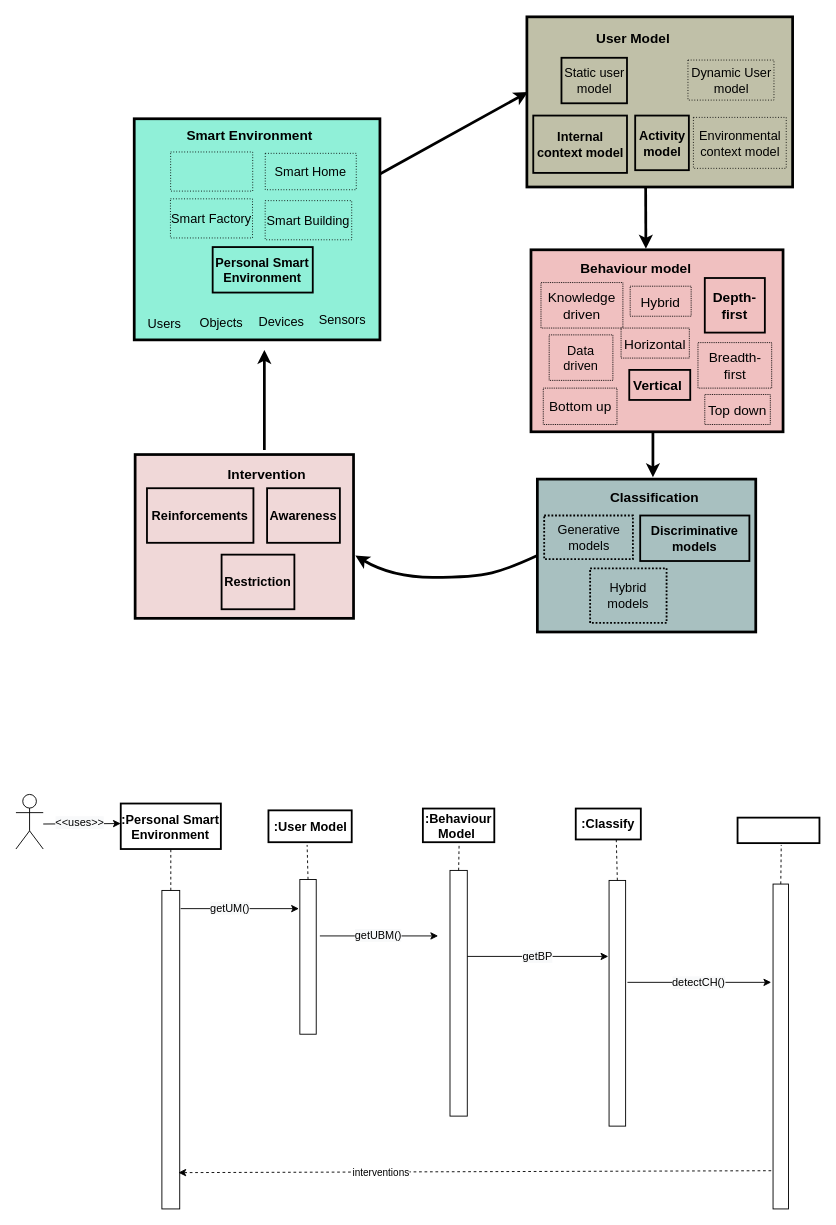
Image size: 836x1225. Some labels were removed from this diagram. The box of each missing label's shape, as (x1, y1, x2, y2) in pixels:
:Intervention: (736, 816, 820, 844)
Actor: (15, 794, 43, 849)
Smart Office: (170, 151, 253, 191)
